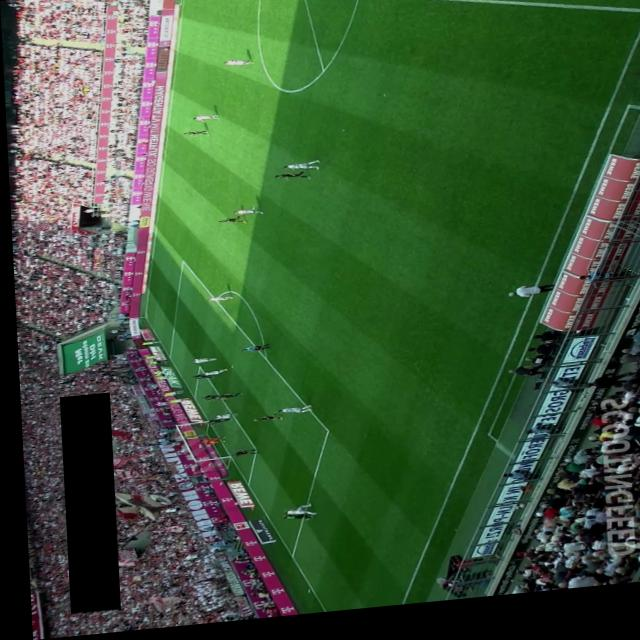goalkeeper: (194, 440, 222, 450)
player: (280, 165, 319, 179), (278, 508, 311, 523), (273, 175, 310, 187), (271, 409, 308, 420), (215, 219, 245, 230), (197, 419, 229, 429), (230, 211, 261, 221), (275, 517, 306, 526), (222, 62, 253, 71), (191, 116, 218, 126), (210, 395, 240, 404), (196, 396, 227, 404), (227, 452, 255, 460), (186, 359, 214, 367), (186, 375, 214, 383), (203, 298, 230, 306), (197, 371, 223, 379), (182, 132, 207, 140), (250, 419, 278, 426), (209, 416, 234, 423)
referee: (237, 348, 265, 356)
